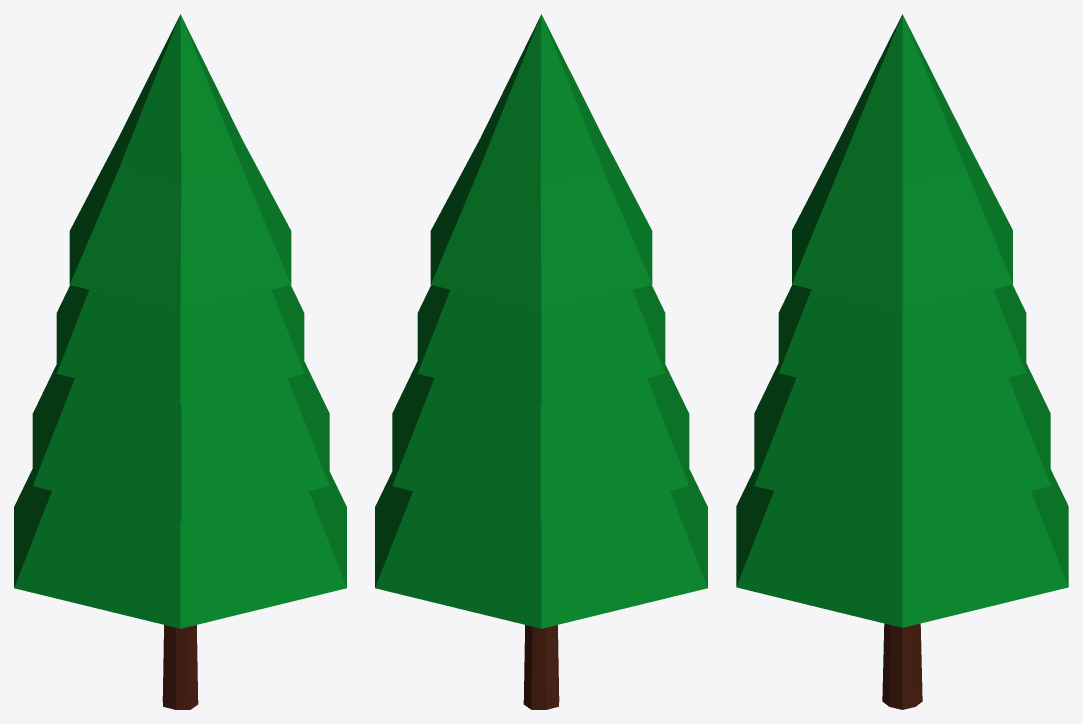
Rendered from Tree3.fbx.
3 views of the same model, side by side, from view 1: azimuth 30°, elevation 25°; view 2: azimuth 150°, elevation 25°; view 3: azimuth 270°, elevation 25° (orthographic).
Visible parts, largest first — view 1: Tree3; view 2: Tree3; view 3: Tree3.
Part boxes in pixels (x1,y1,x2,y2): Tree3: (14,14,346,709); Tree3: (375,14,707,709); Tree3: (736,14,1068,709).
Size of the model in its own units: 556 by 1100 by 482.
